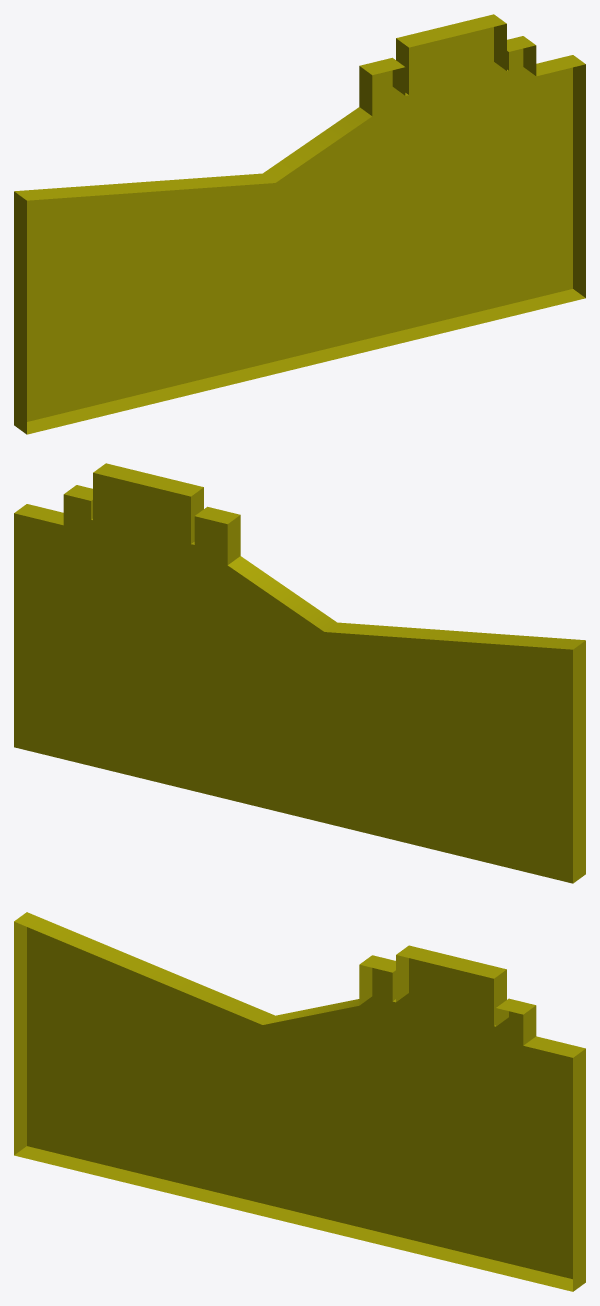
The model's file is gingerbread desert low res 2.fbx.
3 views of the same model, one above another, from view 1: azimuth 30°, elevation 25°; view 2: azimuth 150°, elevation 25°; view 3: azimuth 330°, elevation 25° (orthographic).
Visible parts, largest first — view 1: gingerbread_Desert_terrain; view 2: gingerbread_Desert_terrain; view 3: gingerbread_Desert_terrain.
Part boxes in pixels (x1,y1,x2,y2): gingerbread_Desert_terrain: [14, 14, 585, 434]; gingerbread_Desert_terrain: [14, 463, 585, 883]; gingerbread_Desert_terrain: [14, 912, 585, 1291].
Bounding box in the file's own units: 25 × 12.56 × 1.
